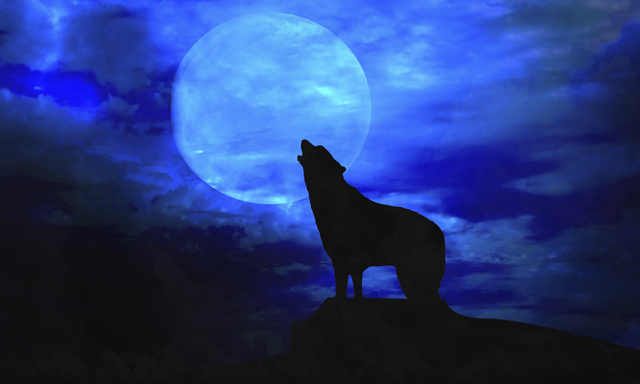Lobo: (268, 138, 457, 298)
